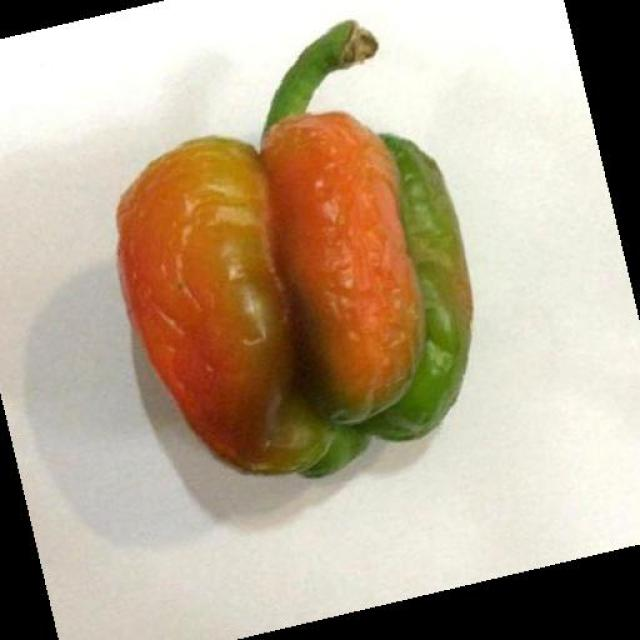Stale_Capsicum: (118, 106, 487, 475)
